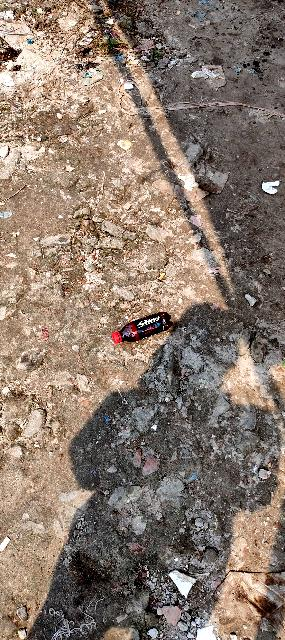bottle: (101, 307, 177, 355)
